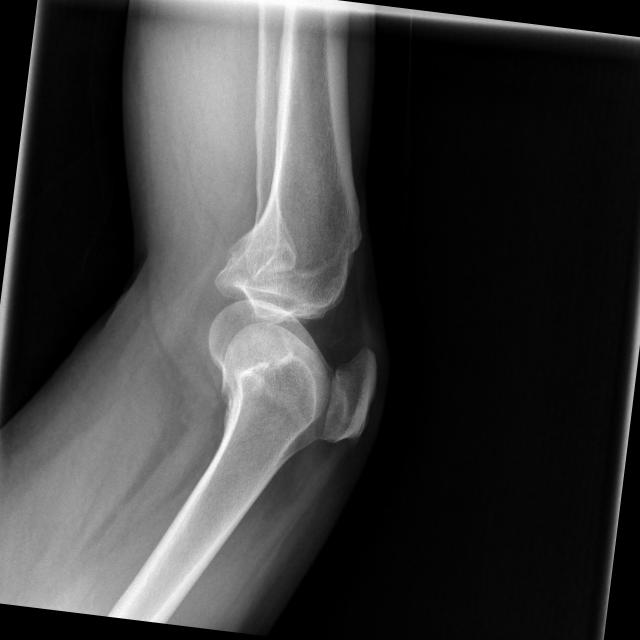Knee: (193, 214, 398, 457)
